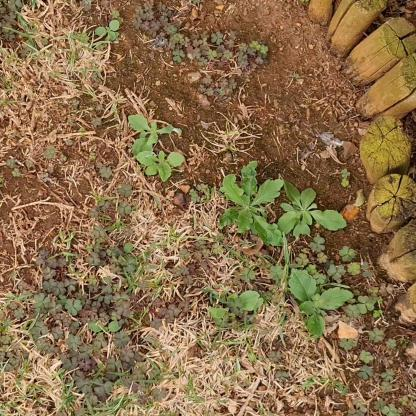Weeds: (218, 160, 286, 250), (287, 267, 355, 337), (277, 178, 346, 240), (130, 110, 177, 157), (211, 294, 263, 326), (136, 149, 184, 181), (95, 18, 122, 44)
